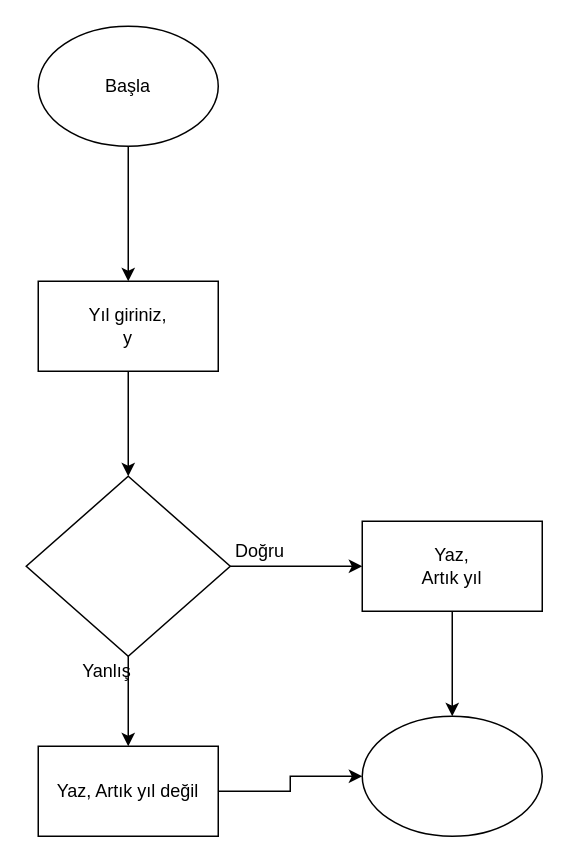
Some shapes in this 569 by 863 pixel diagram are drawn without their labels. Here are the shapes that lost their labels. From the top down, the centre of each, then its label:
At (127,565): "y%4==0".
At (451,775): "Son".
